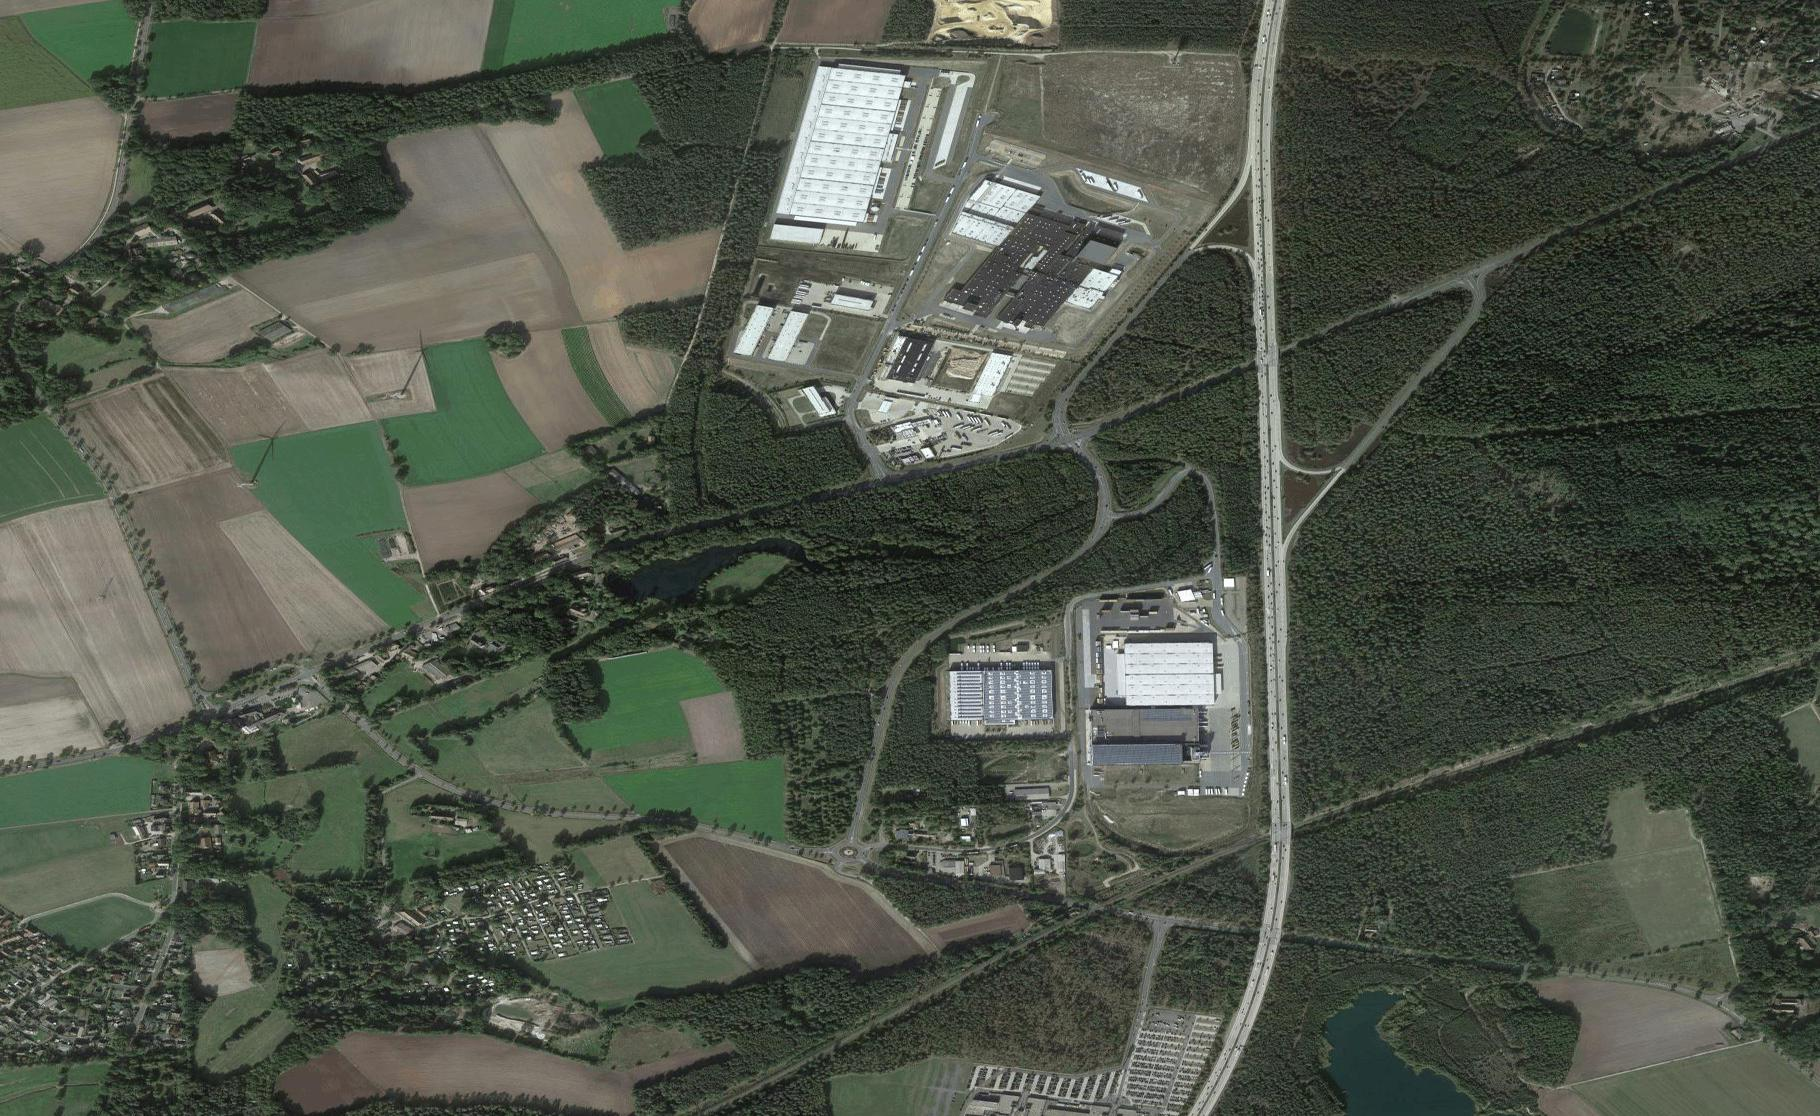industrial: (747, 55, 1163, 455), (933, 562, 1248, 810)
motorway: (1195, 783, 1301, 1116), (1241, 260, 1284, 524), (1249, 522, 1292, 786), (1240, 1, 1283, 264)
